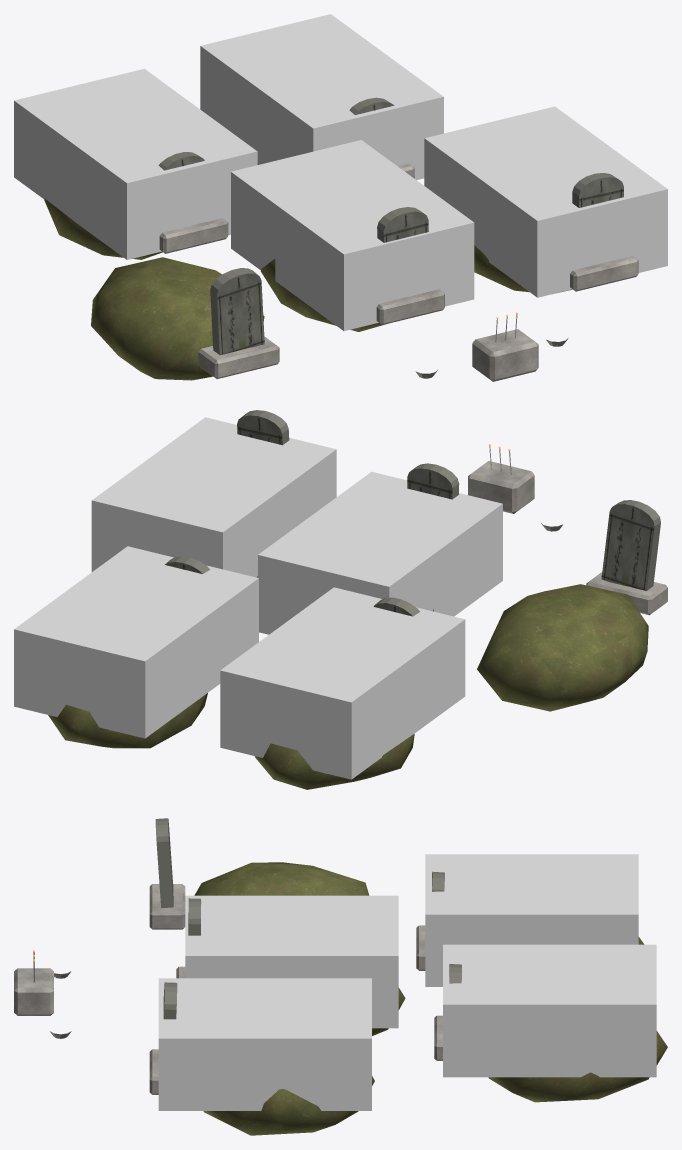
The model's file is tombstones.glb.
3 renders of one model, top to bottom at view 1: azimuth 30°, elevation 25°; view 2: azimuth 150°, elevation 25°; view 3: azimuth 270°, elevation 25°, orthographic. The views are drawn at different scales.
Parts seen in each view (by area): view 1: Grave-convcolonly.001, Grave-convcolonly.003, Grave-convcolonly.002, Grave-convcolonly.004, GraveMounds, Headstones, GraveBases, IncenseStone; view 2: Grave-convcolonly.003, Grave-convcolonly.004, Grave-convcolonly.001, Grave-convcolonly.002, GraveMounds, Headstones, IncenseStone, GraveBases; view 3: Grave-convcolonly.004, Grave-convcolonly.002, Grave-convcolonly.003, Grave-convcolonly.001, GraveMounds, GraveBases, Headstones, IncenseStone.
Boxes of the visible parts, x1,y1,x2,y2 form: Grave-convcolonly.001: (231,140,474,330); Grave-convcolonly.003: (14,68,257,259); Grave-convcolonly.002: (424,106,667,297); Grave-convcolonly.004: (200,14,443,180); GraveMounds: (44,198,572,380); Headstones: (158,97,623,355); GraveBases: (159,163,638,378); IncenseStone: (415,314,568,381); Grave-convcolonly.003: (220,587,465,779); Grave-convcolonly.004: (14,546,258,738); Grave-convcolonly.001: (258,471,502,634); Grave-convcolonly.002: (91,417,336,577); GraveMounds: (48,576,648,789); Headstones: (165,410,660,616); IncenseStone: (468,446,562,531); GraveBases: (586,572,667,615); Grave-convcolonly.004: (443,944,656,1077); Grave-convcolonly.002: (158,978,371,1110); Grave-convcolonly.003: (425,854,638,986); Grave-convcolonly.001: (185,895,398,1028); GraveMounds: (194,862,667,1135); GraveBases: (149,884,442,1094); Headstones: (155,818,461,1019); IncenseStone: (14,952,71,1038).
Size of what is drawn, in the model's own units: 6.11 by 1.77 by 7.35.
4 materials, 3 textured.
